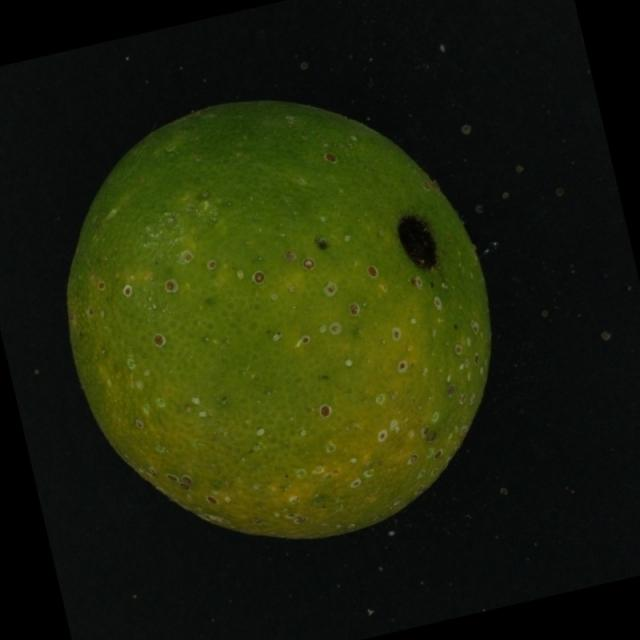grenning: (42, 66, 511, 574)
